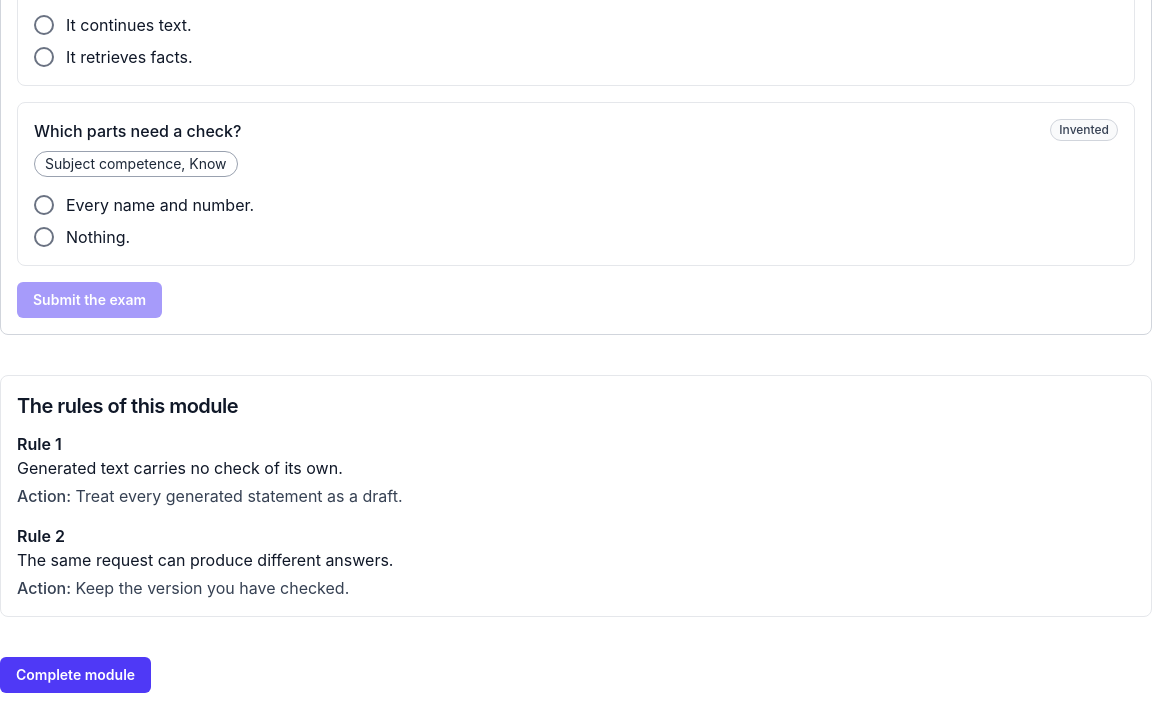
Scenario: ModuleStation completion › after Complete module, the summary shows evidenced, evidenced, practised and open, and a format entry names the format with a link to the formats station
This screenshot has width=1152, height=709.
(page scrolled)
Step 1. Click the button "Complete module" → (76, 675), box [0,657,151,693]
(page scrolled)
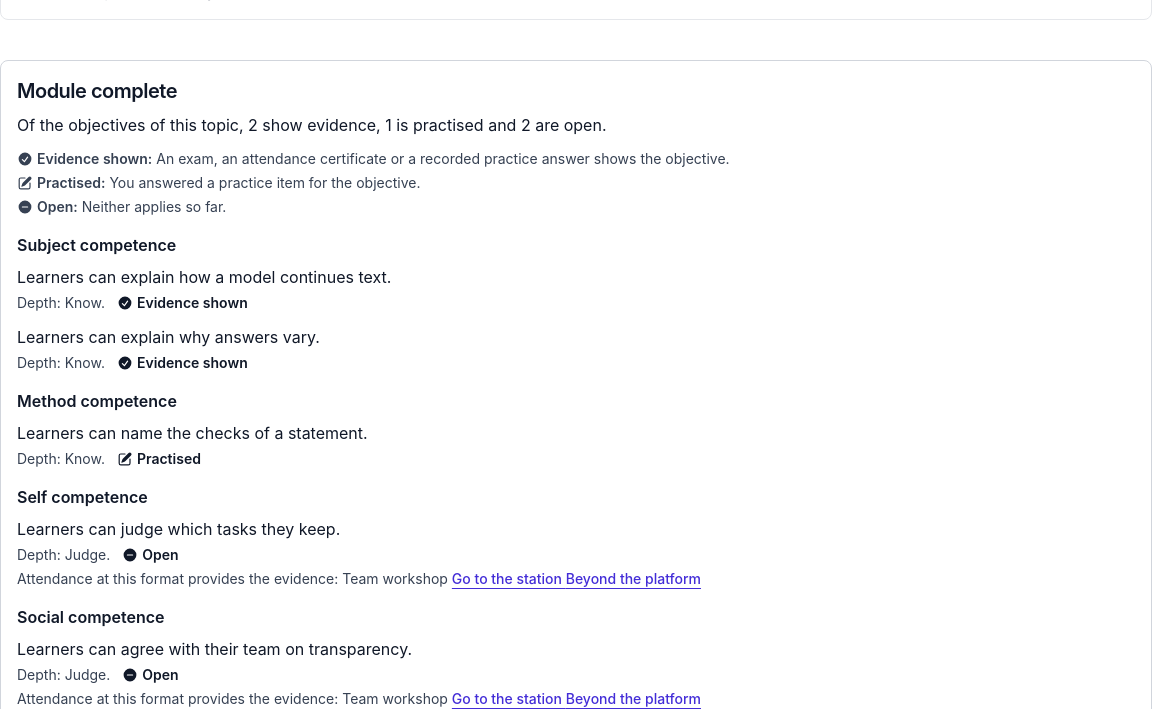
Now the 2nd list item is shown, box [17,267,391,311]
Now the 1st element showing "Evidence shown" is shown, box [117,293,248,313]
Now the 2nd element showing "Evidence shown" is shown, box [117,353,248,373]
